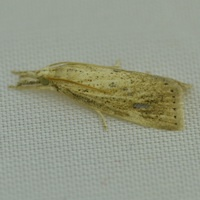insect: (10, 62, 191, 130)
